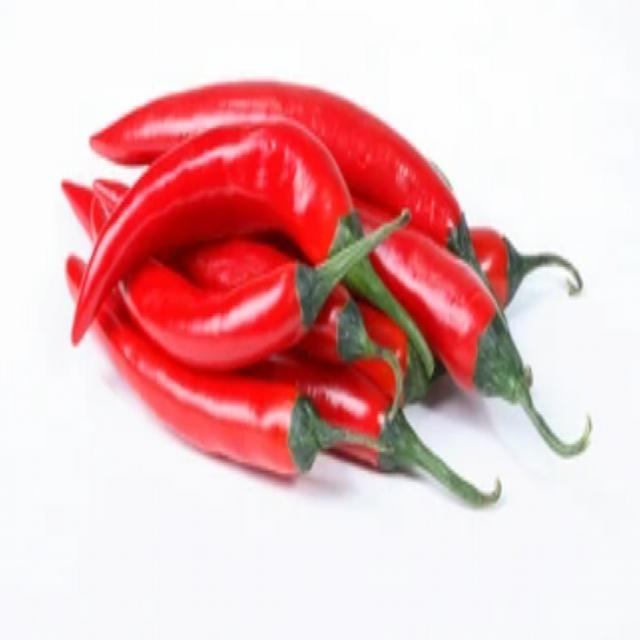red chili: (59, 49, 606, 521)
